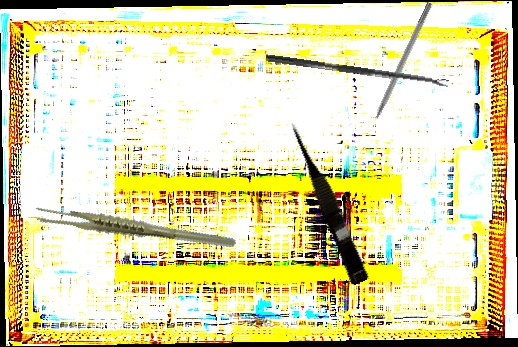Hook Surgical: (364, 1, 434, 135)
Micro Scissor: (284, 118, 373, 286)
Surgical Spoon: (265, 54, 449, 88)
Tissue Forceps: (32, 172, 238, 286)
